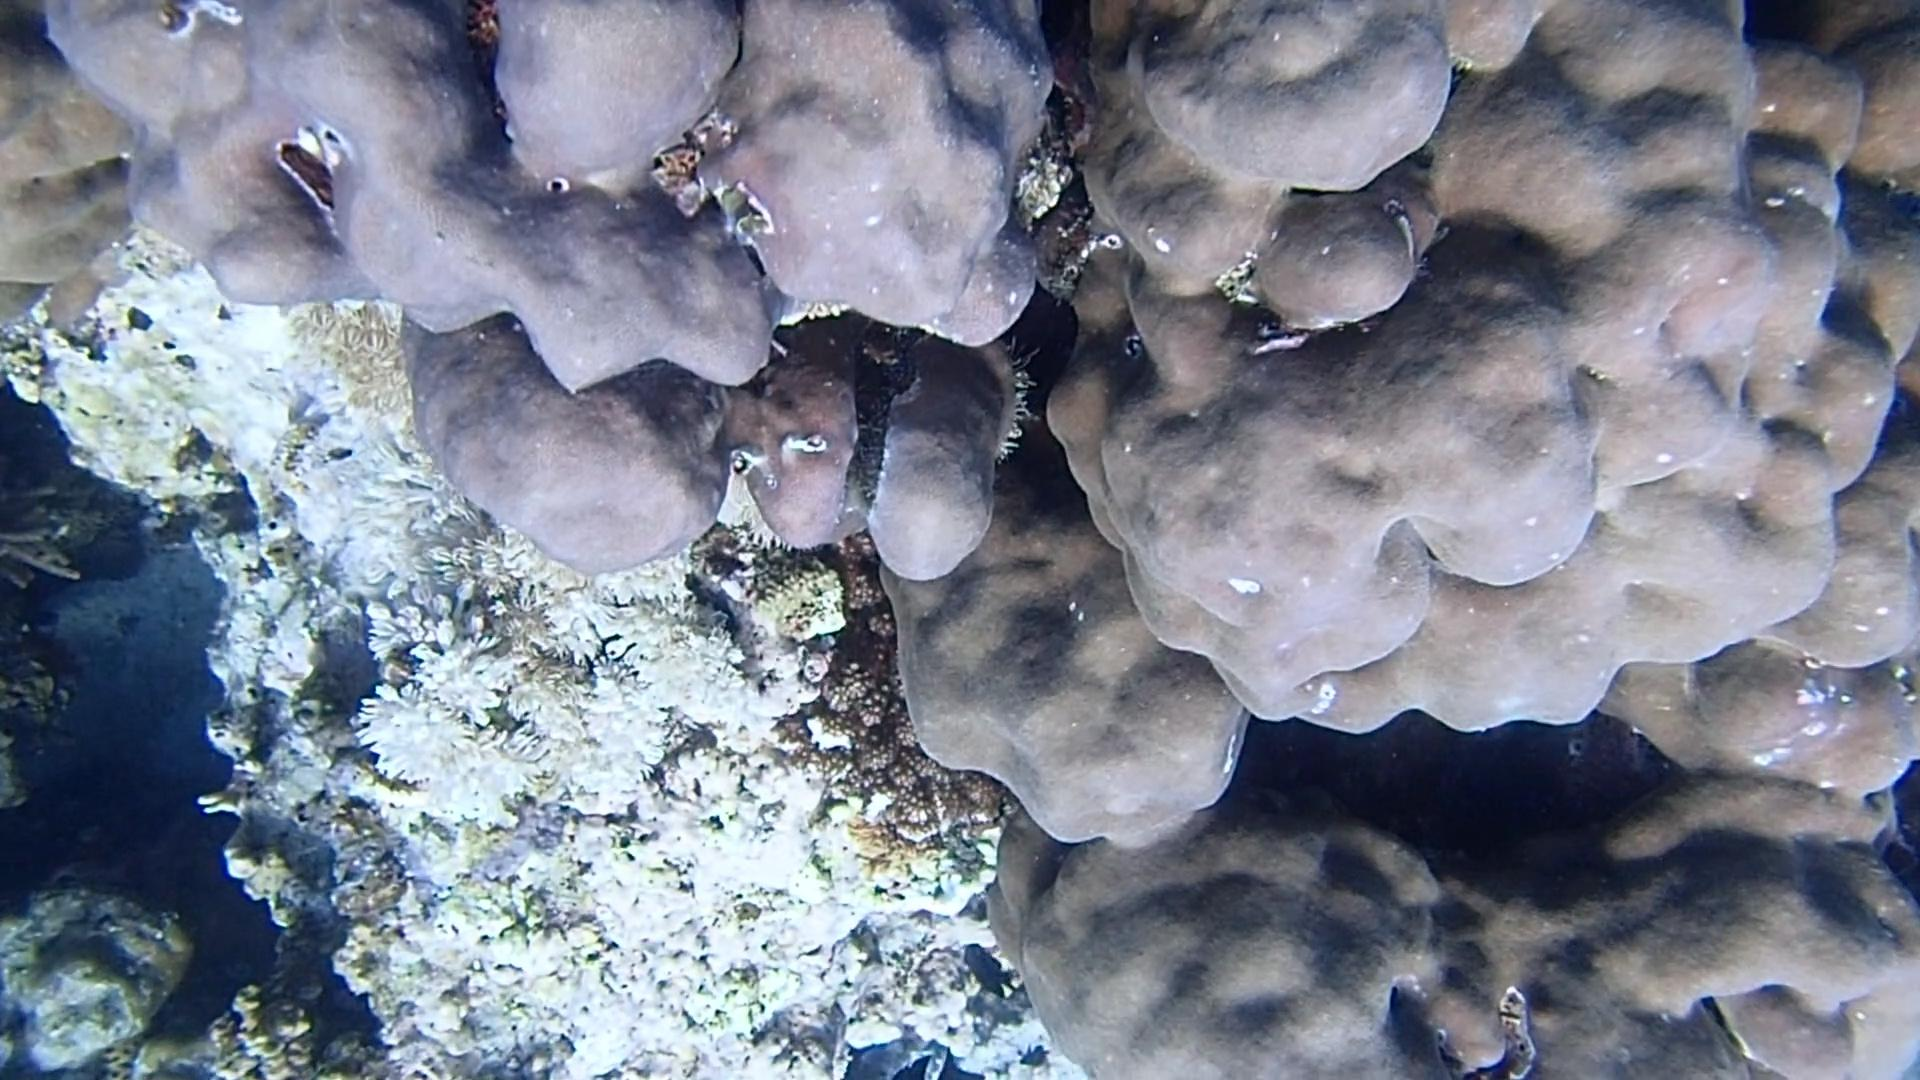Dark Fish: (956, 939, 1021, 1007), (1014, 1042, 1051, 1075)
